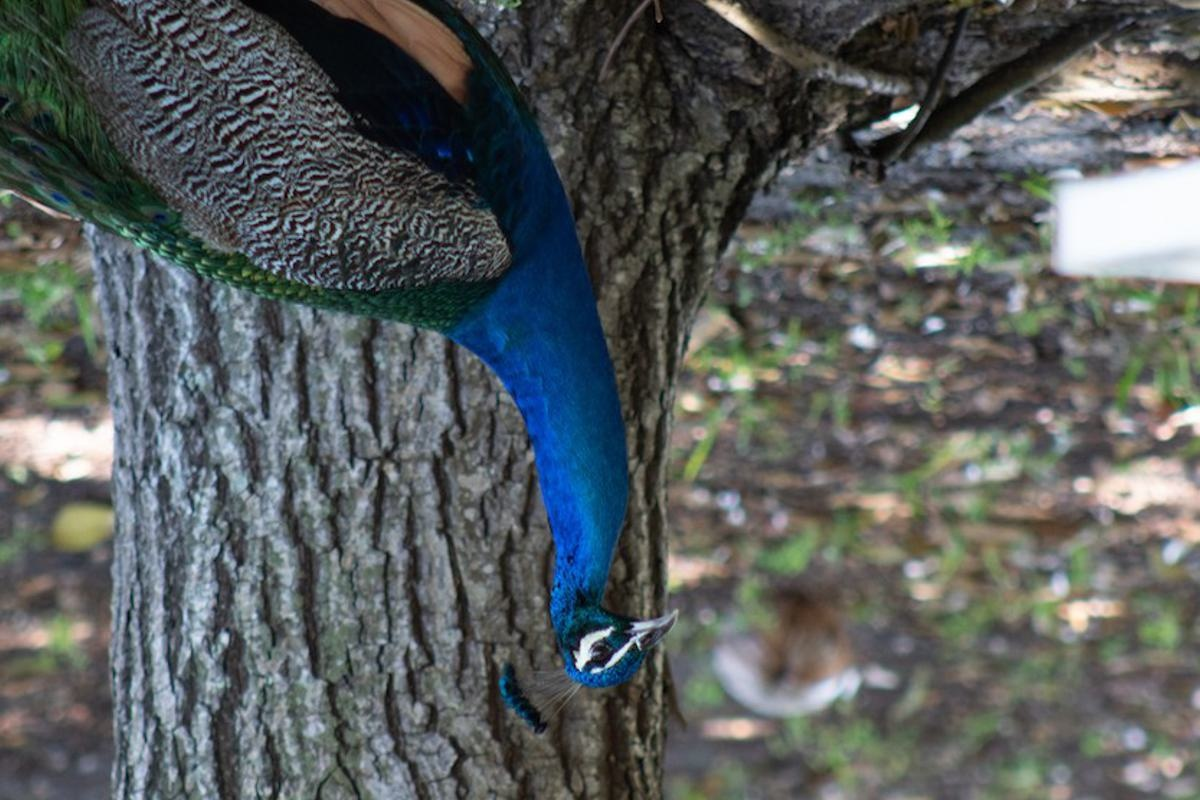peacock: (1, 1, 739, 684)
